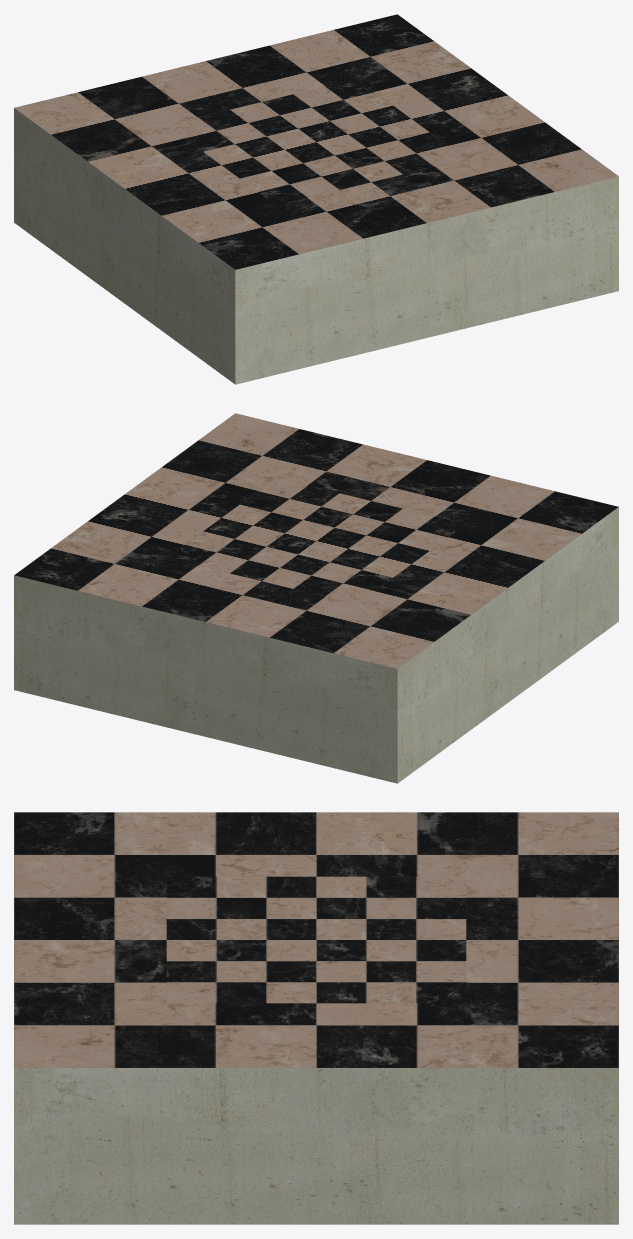
The model's file is hallway round point collider 1.fbx.
The picture shows the model from 3 angles, top to bottom: view 1: azimuth 30°, elevation 25°; view 2: azimuth 150°, elevation 25°; view 3: azimuth 270°, elevation 25°; orthographic projection. The views are drawn at different scales.
Parts seen in each view (by area): view 1: Cube.001; view 2: Cube.001; view 3: Cube.001.
Boxes of the visible parts, x1,y1,x2,y2 form: Cube.001: [14, 14, 618, 384]; Cube.001: [14, 413, 618, 783]; Cube.001: [14, 812, 618, 1224].
Bounding box in the file's own units: 2098 × 2098 × 600.
